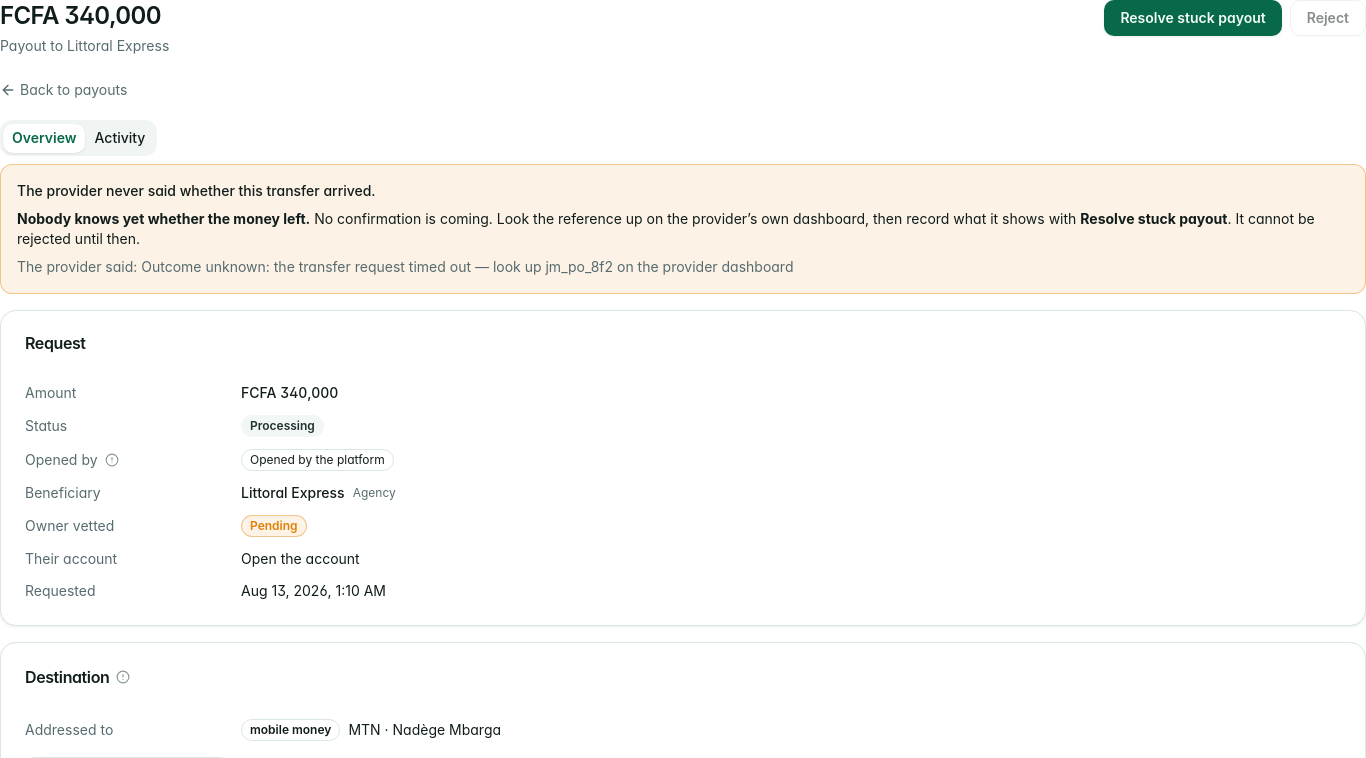
Test: which outcomes are offered › offers both, with the failed warning, to a holder of both permissions
Click the button "Resolve stuck payout" at (1193, 18), box [1104,0,1282,36]
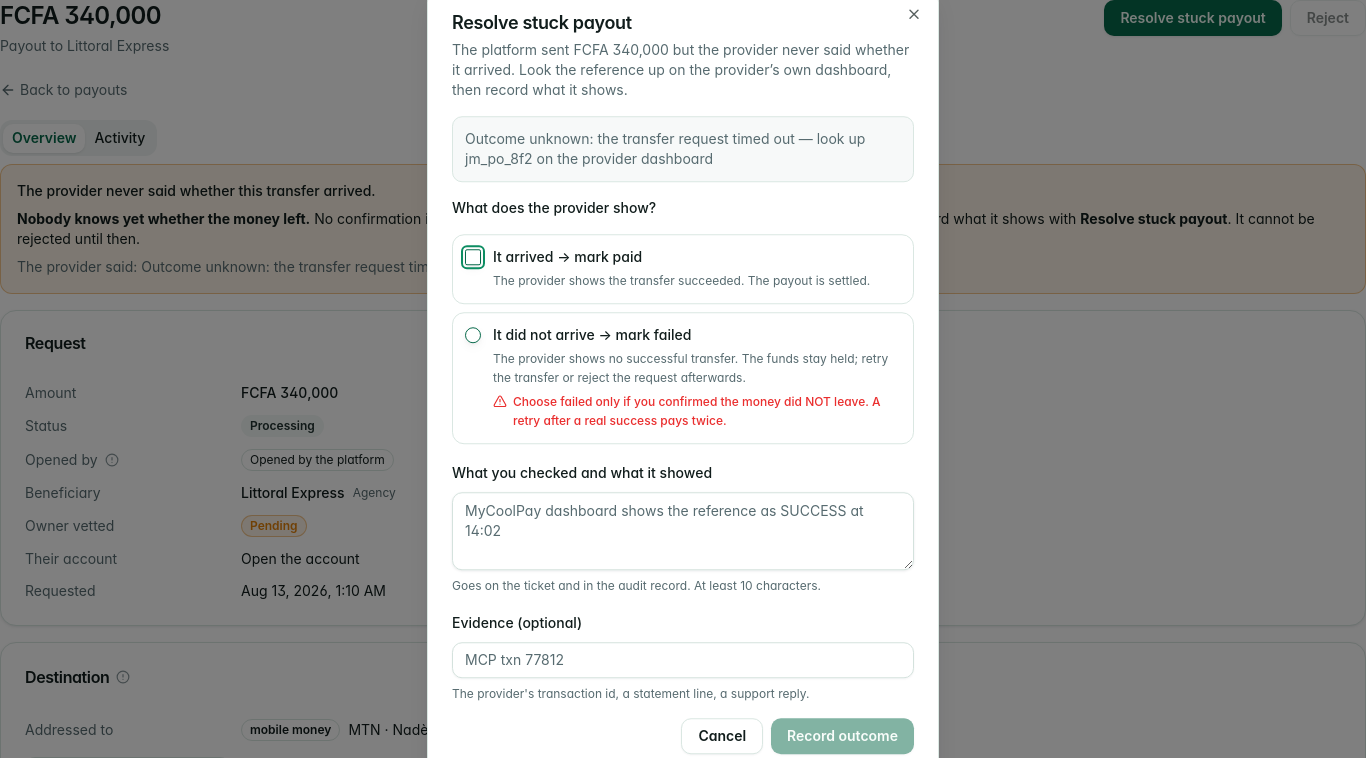
Now the text "Choose failed only if you confirmed the money did NOT leave. A retry after a real success pays twice." is shown, box [513,394,880,428]
Now the radio button named "it arrived" next to "It arrived → mark paid" is not checked, box [465,249,481,265]
Now the radio button named "did not arrive" next to "It did not arrive → mark failed" is not checked, box [465,327,481,343]
